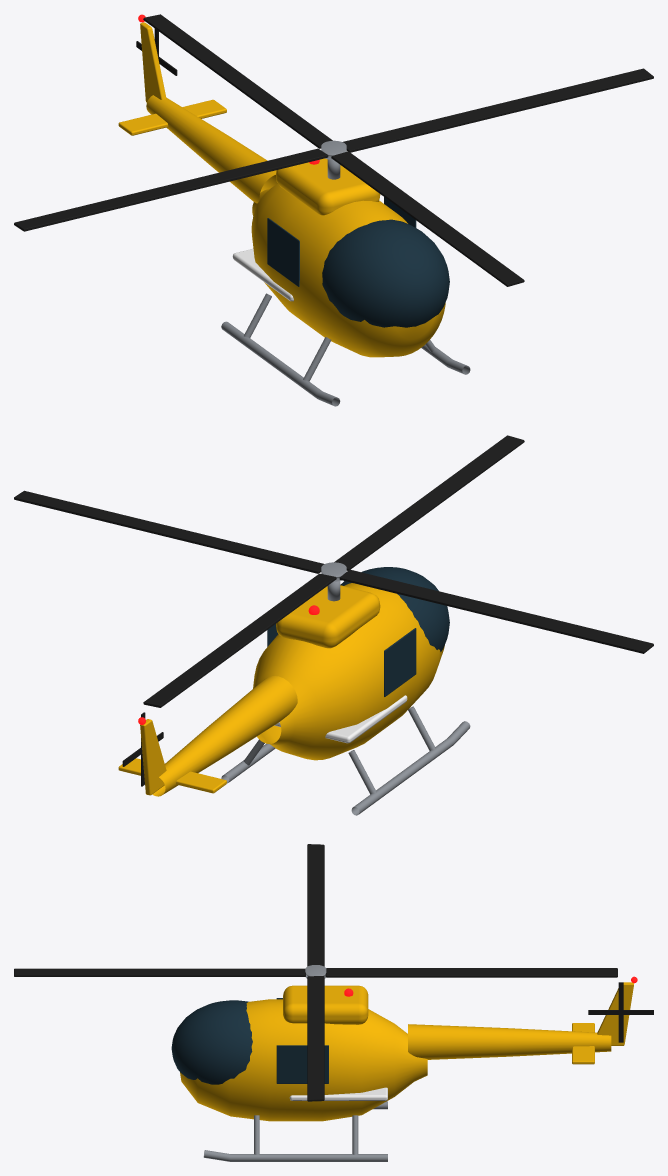
The model's file is heli.glb.
The picture shows the model from 3 angles, top to bottom: view 1: azimuth 30°, elevation 25°; view 2: azimuth 150°, elevation 25°; view 3: azimuth 270°, elevation 25°; orthographic projection. The views are drawn at different scales.
Parts seen in each view (by area): view 1: body, canopy, tail, blade0, blade2, blade3, blade1, engine, door-1, skid-1, fin, stab (+1 smaller); view 2: body, tail, blade2, engine, blade0, blade3, blade1, canopy, door-1, skid-1, fin, stab (+1 smaller); view 3: body, tail, canopy, blade1, blade3, engine, blade0, blade2, skid1, door1, fin, stripe (+1 smaller).
Boxes of the visible parts, <box> form: body: <box>251,184,445,357</box>; canopy: <box>322,219,449,327</box>; tail: <box>146,95,277,203</box>; blade0: <box>342,68,653,152</box>; blade2: <box>14,148,328,231</box>; blade3: <box>331,151,524,286</box>; blade1: <box>143,14,332,148</box>; engine: <box>276,158,380,215</box>; door-1: <box>267,218,299,286</box>; skid-1: <box>221,321,340,406</box>; fin: <box>140,22,166,102</box>; stab: <box>118,99,226,135</box>; body: <box>253,583,444,760</box>; tail: <box>152,676,297,796</box>; blade2: <box>339,569,653,653</box>; engine: <box>276,585,380,648</box>; blade0: <box>14,490,324,573</box>; blade3: <box>334,435,524,570</box>; blade1: <box>143,573,336,707</box>; canopy: <box>340,567,449,651</box>; door-1: <box>384,628,416,696</box>; skid-1: <box>351,721,470,815</box>; fin: <box>140,719,166,795</box>; stab: <box>118,758,226,793</box>; body: <box>180,999,427,1121</box>; tail: <box>408,1024,611,1059</box>; canopy: <box>171,1000,252,1084</box>; blade1: <box>325,968,617,977</box>; blade3: <box>14,968,305,976</box>; engine: <box>283,985,368,1024</box>; blade0: <box>307,976,324,1101</box>; blade2: <box>307,844,324,966</box>; skid1: <box>203,1150,387,1161</box>; door1: <box>276,1045,328,1083</box>; fin: <box>597,982,633,1045</box>; stripe: <box>289,1087,387,1100</box>.
Size of the model in its own units: 9.2 by 2.79 by 9.75.
